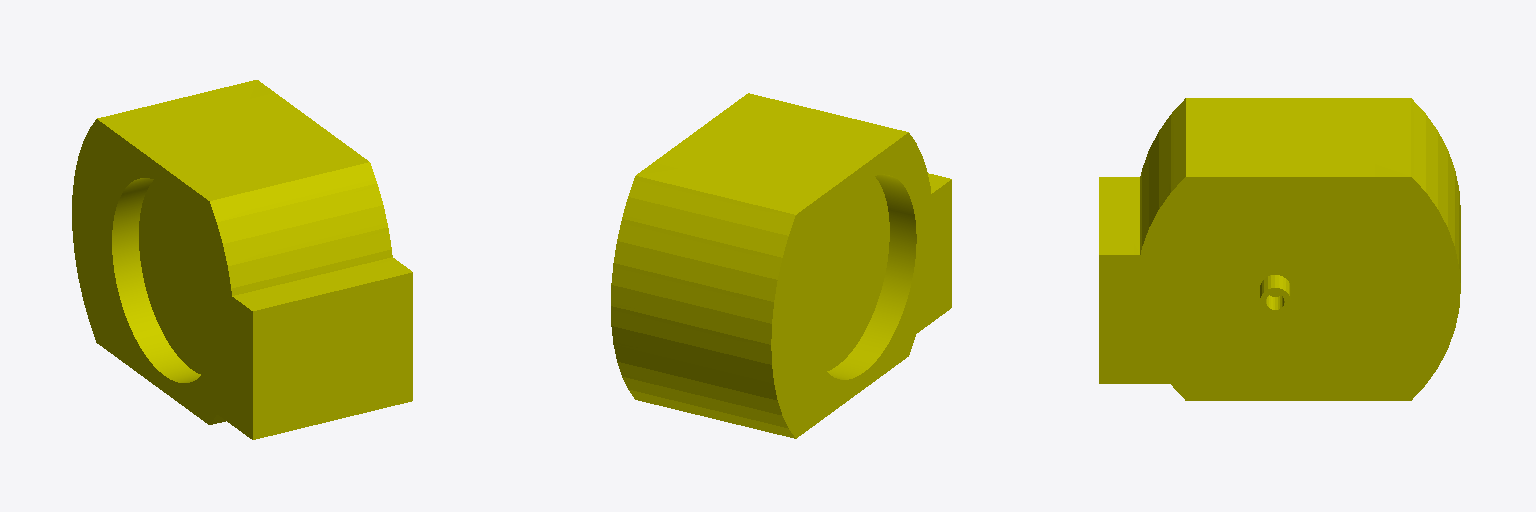
3 views of the same model, side by side, from view 1: azimuth 30°, elevation 25°; view 2: azimuth 150°, elevation 25°; view 3: azimuth 270°, elevation 25° (orthographic).
Size of the model in its own units: 35 by 40 by 58.5.
1 materials, 1 textured.